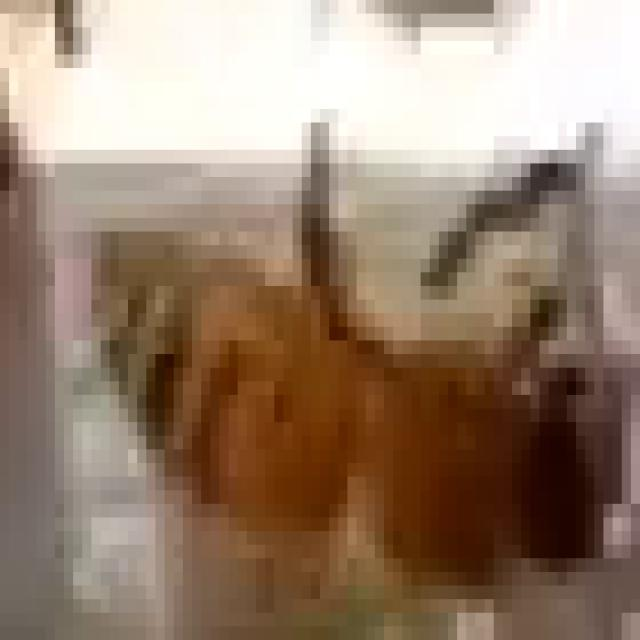honeybee: (73, 150, 640, 599)
